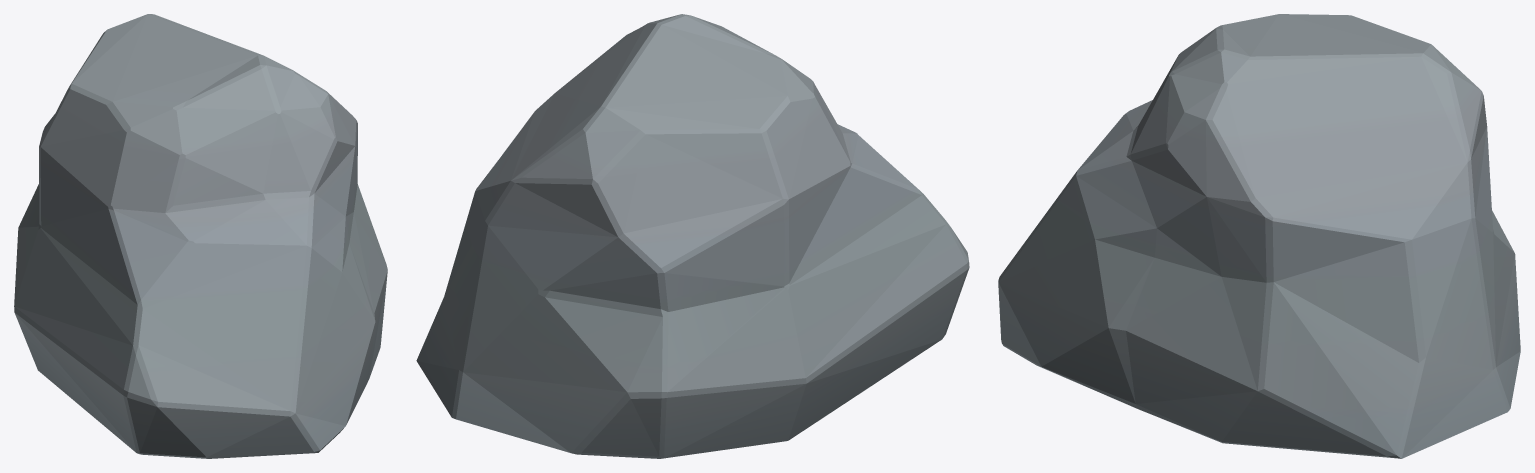
File: rock_boulder.glb
3 renders of one model, left to right at view 1: azimuth 30°, elevation 25°; view 2: azimuth 150°, elevation 25°; view 3: azimuth 270°, elevation 25°, orthographic. The views are drawn at different scales.
Parts seen in each view (by area): view 1: rock_boulder; view 2: rock_boulder; view 3: rock_boulder.
Boxes of the visible parts, bbox=[...] form: rock_boulder: bbox=[14, 14, 387, 458]; rock_boulder: bbox=[416, 14, 969, 458]; rock_boulder: bbox=[998, 14, 1520, 458].
Size of the model in its own units: 1.41 by 1.15 by 1.63.
Materials: 1 (1 with a texture image).
